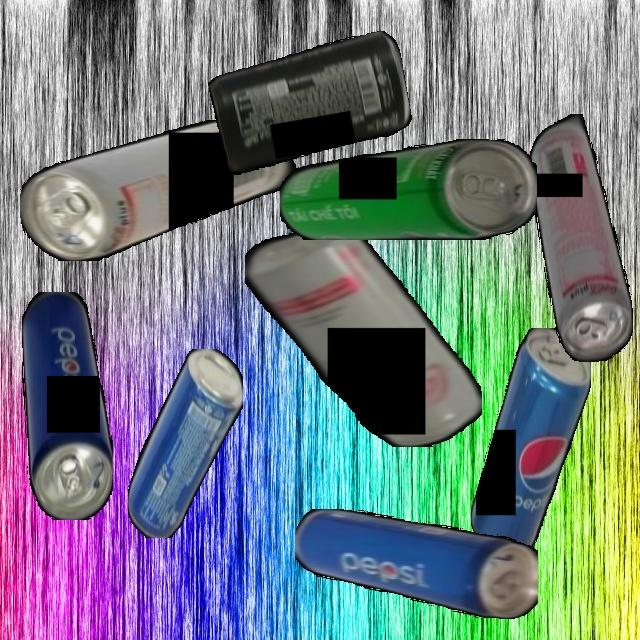debris: (244, 224, 482, 447), (20, 119, 305, 261), (205, 29, 416, 177), (470, 327, 591, 555), (294, 509, 538, 619), (279, 139, 537, 240), (529, 113, 633, 362), (127, 348, 243, 538), (21, 291, 113, 520)
